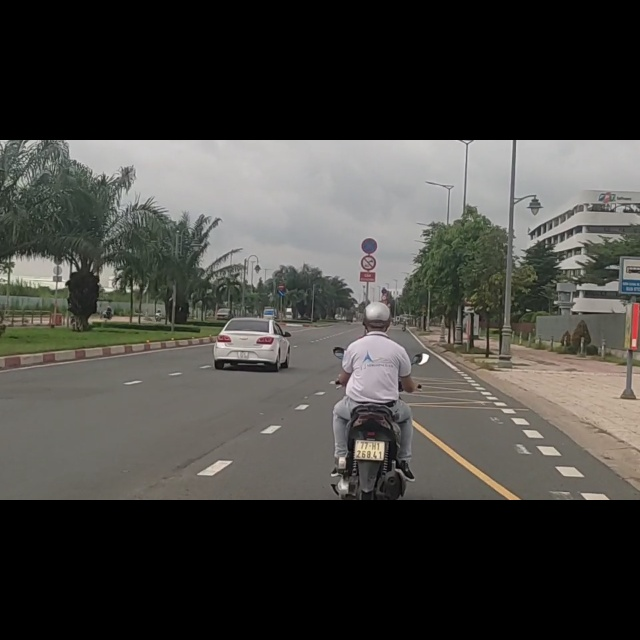bien_hieu_lenh: (359, 173, 379, 203), (360, 204, 377, 232)
